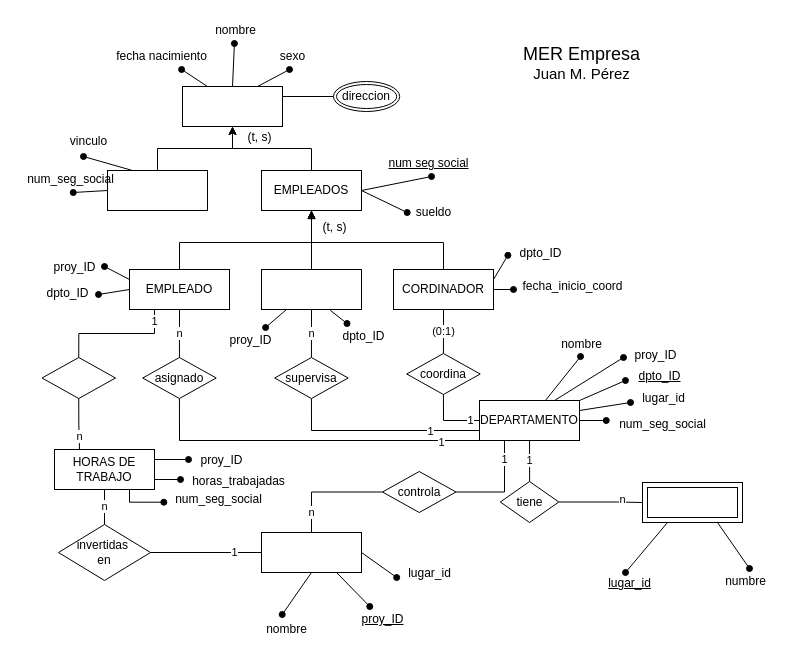
Some shapes in this 791 by 659 pixel diagram are drawn without their labels. The centre of each missing label's shape, as x and y in pixels:
DEPENDIENTES: point 157,190
PERSONAS: point 232,106
PROYECTO: point 311,552
SUPERVISOR: point 311,289
trabajo: point 78,377
ubicacion: point 692,502
